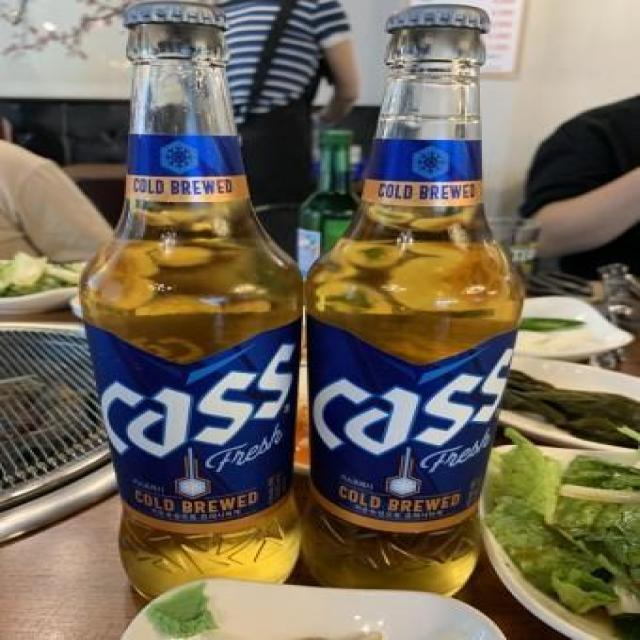beer-bottle: (292, 2, 518, 594), (100, 1, 304, 626)
soju-bottle: (296, 128, 364, 284)
